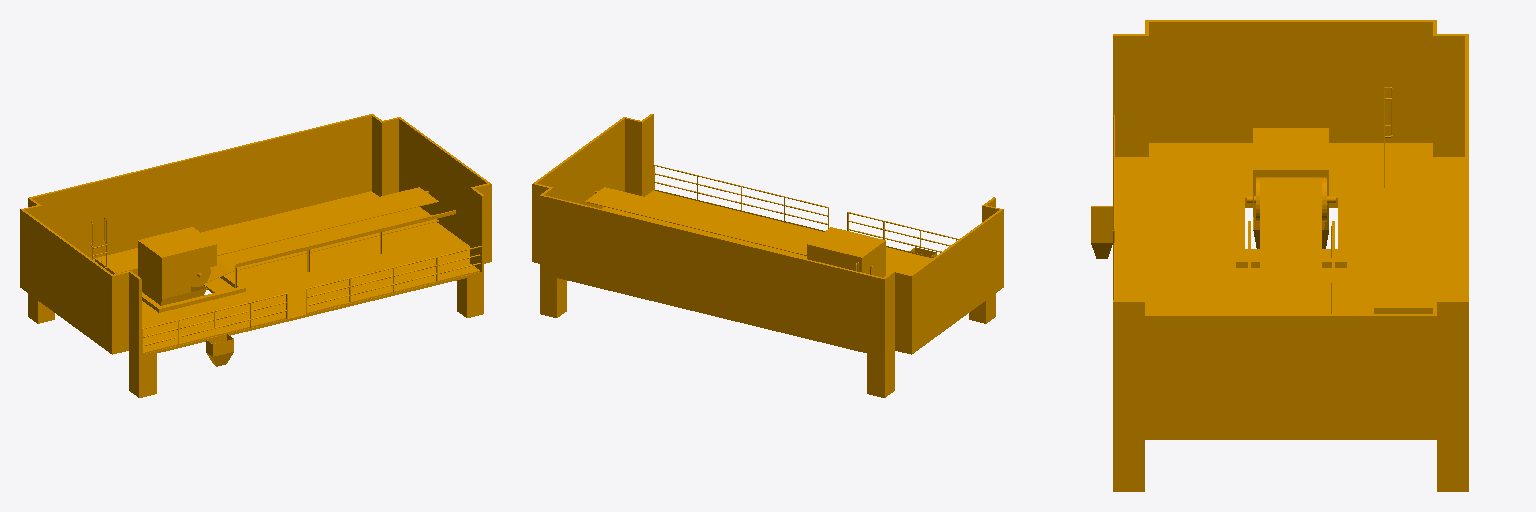
URDF robot description (UGV_Unimelb):
<?xml version="1.0" encoding="utf-8"?>
<robot
  name="UGV_Unimelb">
  <link
    name="robot_body">
    <inertial>
      <origin
        xyz="0 0 0.2"
        rpy="0 0 0" />
      <mass
        value="25" />
      <inertia
        ixx="0.854166667"
        ixy="0"
        ixz="0"
        iyy="1.354166667"
        iyz="0"
        izz="1.54166667" />
    </inertial>
    <visual>
      <geometry>
        <mesh
          filename="package://ugv_description/models/base_link.STL" />
      </geometry>
    </visual>
    <collision>
      <origin
        xyz="0 0 0.2"
        rpy="0 0 0" />
      <geometry>
        <box size="0.7 0.5 0.4"/>
      </geometry>
    </collision>
  </link>
  
  <!-- front left -->

  <link
    name="left_front_wheel">
    <inertial>
      <origin
        xyz="0 0.06 0"
        rpy="0 0 0" />
      <mass
        value="5" />
      <inertia
        ixx="0.007166667"
        ixy="0"
        ixz="0"
        iyy="0.009"
        iyz="0"
        izz="0.007166667" />
    </inertial>
    <visual>
      <origin
        xyz="0 0.01 0"
        rpy="0 0 0" />
      <geometry>
        <mesh
          filename="package://ugv_description/models/Left_Front_Wheel.STL" />
      </geometry>
    </visual>
    <collision>
      <origin
        xyz="0 0.06 0"
        rpy="-1.570796327 0 0" />
      <geometry>
        <cylinder length="0.08" radius="0.065"/>
      </geometry>
    </collision>
  </link>
  
  <joint
    name="left_front_wheel_joint"
    type="continuous">
    <origin
      xyz="0.22316 0.245 0.047662"
      rpy="0 0 0" />
    <parent
      link="robot_body" />
    <child
      link="left_front_wheel" />
    <axis
      xyz="0 1 0" />
  </joint>

  <!-- front right -->

  <link
    name="right_front_wheel">
    <inertial>
      <origin
        xyz="0 -0.06 0"
        rpy="0 0 0" />
      <mass
        value="5" />
      <inertia
        ixx="0.007166667"
        ixy="0"
        ixz="0"
        iyy="0.009"
        iyz="0"
        izz="0.007166667" />
    </inertial>
    <visual>
      <origin
        xyz="0 -0.01 0"
        rpy="0 0 0" />
      <geometry>
        <mesh
          filename="package://ugv_description/models/Right_Front_Wheel.STL" />
      </geometry>
    </visual>
    <collision>
      <origin
        xyz="0 -0.06 0"
        rpy="1.570796327 0 0" />
      <geometry>
        <cylinder length="0.08" radius="0.065"/>
      </geometry>
    </collision>
  </link>
  
  <joint
    name="right_front_wheel_joint"
    type="continuous">
    <origin
      xyz="0.22316 -0.245 0.047662"
      rpy="0 0 0" />
    <parent
      link="robot_body" />
    <child
      link="right_front_wheel" />
    <axis
      xyz="0 1 0" />
  </joint>

  <!-- back right -->

  <link
    name="right_back_wheel">
    <inertial>
      <origin
        xyz="0 -0.06 0"
        rpy="0 0 0" />
      <mass
        value="5" />
      <inertia
        ixx="0.007166667"
        ixy="0"
        ixz="0"
        iyy="0.009"
        iyz="0"
        izz="0.007166667" />
    </inertial>
    <visual>
      <origin
        xyz="0 -0.01 0"
        rpy="0 0 0" />
      <geometry>
        <mesh
          filename="package://ugv_description/models/Right_Front_Wheel.STL" />
      </geometry>
    </visual>
    <collision>
      <origin
        xyz="0 -0.06 0"
        rpy="1.570796327 0 0" />
      <geometry>
        <cylinder length="0.08" radius="0.065"/>
      </geometry>
    </collision>
  </link>
  
  <joint
    name="right_back_wheel_joint"
    type="continuous">
    <origin
      xyz="-0.256 -0.245 0.047662"
      rpy="0 0 0" />
    <parent
      link="robot_body" />
    <child
      link="right_back_wheel" />
    <axis
      xyz="0 1 0" />
  </joint>

  <!-- back left -->

  <link
    name="left_back_wheel">
    <inertial>
      <origin
        xyz="0 0.06 0"
        rpy="0 0 0" />
      <mass
        value="5" />
      <inertia
        ixx="0.007166667"
        ixy="0"
        ixz="0"
        iyy="0.009"
        iyz="0"
        izz="0.007166667" />
    </inertial>
    <visual>
      <origin
        xyz="0 0.01 0"
        rpy="0 0 0" />
      <geometry>
        <mesh
          filename="package://ugv_description/models/Left_Front_Wheel.STL" />
      </geometry>
    </visual>
    <collision>
      <origin
        xyz="0 0.06 0"
        rpy="1.570796327 0 0" />
      <geometry>
        <cylinder length="0.08" radius="0.065"/>
      </geometry>
    </collision>
  </link>
  
  <joint
    name="left_back_wheel_joint"
    type="continuous">
    <origin
      xyz="-0.256 0.245 0.047662"
      rpy="0 0 0" />
    <parent
      link="robot_body" />
    <child
      link="left_back_wheel" />
    <axis
      xyz="0 1 0" />
  </joint>
  
  <!-- left -->

  <link
    name="left_wheel">
    <inertial>
      <origin
        xyz="0 0.06 0"
        rpy="0 0 0" />
      <mass
        value="5" />
      <inertia
        ixx="0.007166667"
        ixy="0"
        ixz="0"
        iyy="0.009"
        iyz="0"
        izz="0.007166667" />
    </inertial>
    <visual>
      <origin
        xyz="0 0.01 0"
        rpy="0 0 0" />
      <geometry>
        <mesh
          filename="package://ugv_description/models/Left_Wheel.STL" />
        <surface>
          <friction>
            <ode>
              <mu>1000.0</mu>
              <mu2>1000.0</mu2>
            </ode>
          </friction>
        </surface>
      </geometry>
    </visual>
    <collision>
      <origin
        xyz="0 0.06 0"
        rpy="1.570796327 0 0" />
      <geometry>
        <cylinder length="0.08" radius="0.065"/>
      </geometry>
    </collision>
  </link>
  
  <joint
    name="left_wheel_joint"
    type="continuous">
    <origin
      xyz="-0.016169 0.245 0.047662"
      rpy="0 0 0" />
    <parent
      link="robot_body" />
    <child
      link="left_wheel" />
    <axis
      xyz="0 1 0" />
  </joint>

  <!-- right -->

  <link
    name="right_wheel">
    <inertial>
      <origin
        xyz="0 -0.06 0"
        rpy="0 0 0" />
      <mass
        value="5" />
      <inertia
        ixx="0.007166667"
        ixy="0"
        ixz="0"
        iyy="0.009"
        iyz="0"
        izz="0.007166667" />
    </inertial>
    <visual>
      <origin
        xyz="0 -0.01 0"
        rpy="0 0 0" />
      <geometry>
        <mesh
          filename="package://ugv_description/models/Right_Wheel.STL" />
        <surface>
          <friction>
            <ode>
              <mu>1000.0</mu>
              <mu2>1000.0</mu2>
            </ode>
          </friction>
        </surface>
      </geometry>
    </visual>
    <collision>
      <origin
        xyz="0 -0.06 0"
        rpy="-1.570796327 0 0" />
      <geometry>
        <cylinder length="0.08" radius="0.065"/>
      </geometry>
    </collision>
  </link>
  
  <joint
    name="right_wheel_joint"
    type="continuous">
    <origin
      xyz="-0.016169 -0.245 0.047662"
      rpy="0 0 0" />
    <parent
      link="robot_body" />
    <child
      link="right_wheel" />
    <axis
      xyz="0 1 0" />
  </joint>

  <!-- Bucket -->

  <link
    name="Bucket">
    <inertial>
      <origin
        xyz="0.1 -0.211701589881784 0.1"
        rpy="0 0 0" />
      <mass
        value="15" />
      <inertia
        ixx="0.6"
        ixy="0"
        ixz="0"
        iyy="0.2"
        iyz="0"
        izz="0.6" />
    </inertial>
    <visual>
      <origin
        xyz="0 0 0"
        rpy="0 0 0" />
      <geometry>
        <mesh
          filename="package://ugv_description/models/Bucket.STL" />
      </geometry>
      <material
        name="">
        <color
          rgba="0.792156862745098 0.819607843137255 0.933333333333333 1" />
      </material>
    </visual>
    <collision>
      <origin
        xyz="0 0 0"
        rpy="0 0 0" />
      <geometry>
        <mesh
          filename="package://ugv_description/models/Bucket.STL" />
      </geometry>
    </collision>
  </link>

  <joint
    name="Joint_Bucket_left"
    type="revolute">
    <origin
      xyz="0.35883 0.2117 0.047662"
      rpy="0 0 0" />
    <parent
      link="robot_body" />
    <child
      link="Bucket" />
    <axis
      xyz="0 1 0" />
    <limit
      lower="0.05"
      upper="0.1"
      effort="0"
      velocity="0" />
  </joint>

  <!-- Camera -->

  <link
    name="Camera_link">
    <inertial>
      <origin
        xyz="-0.0893390605039384 0.000350551617509749 -0.247972031002889"
        rpy="0 0 0" />
      <mass
        value="1" />
      <inertia
        ixx="0.01"
        ixy="0"
        ixz="0"
        iyy="0.01"
        iyz="0"
        izz="0.01" />
    </inertial>
    <visual>
      <origin
        xyz="0 0 0"
        rpy="0 0 0" />
      <geometry>
        <mesh
          filename="package://ugv_description/models/Camera.STL" />
      </geometry>
      <material
        name="">
        <color
          rgba="0.792156862745098 0.819607843137255 0.933333333333333 1" />
      </material>
    </visual>
    <collision>
      <origin
        xyz="0 0 0"
        rpy="0 0 0" />
      <geometry>
        <mesh
          filename="package://ugv_description/models/Camera.STL" />
      </geometry>
    </collision>
  </link>

  <gazebo reference="Camera_link">
    <sensor type="camera" name="front_camera">
      <update_rate>30.0</update_rate>
      <camera name="front_eye">
        <horizontal_fov>1.3962634</horizontal_fov>
        <image>
          <width>800</width>
          <height>800</height>
          <format>R8G8B8</format>
        </image>
        <clip>
          <near>0.02</near>
          <far>300</far>
        </clip>
        <noise>
          <type>gaussian</type>
          <mean>0.0</mean>
          <stddev>0.007</stddev>
        </noise>
      </camera>
      <plugin name="camera_controller" filename="libgazebo_ros_camera.so">
        <alwaysOn>true</alwaysOn>
        <updateRate>0.0</updateRate>
        <cameraName>rrbot/camera1</cameraName>
        <imageTopicName>image_raw</imageTopicName>
        <cameraInfoTopicName>camera_info</cameraInfoTopicName>
        <frameName>camera_link</frameName>
        <hackBaseline>0.07</hackBaseline>
        <distortionK1>0.0</distortionK1>
        <distortionK2>0.0</distortionK2>
        <distortionK3>0.0</distortionK3>
        <distortionT1>0.0</distortionT1>
        <distortionT2>0.0</distortionT2>
      </plugin>
    </sensor>
  </gazebo>

  <joint
    name="Joint_Camera"
    type="fixed">
    <origin
      xyz="0.29633 -0.00035214 0.337"
      rpy="0 0 0" />
    <parent
      link="robot_body" />
    <child
      link="Camera_link" />
    <axis
      xyz="0 0 0" />
  </joint>

  <!-- Lidar -->

  <link
    name="Lidar_link">
    <inertial>
      <origin
        xyz="-2.77555756156289E-17 4.74552056052413E-18 0.0254999999999999"
        rpy="0 0 0" />
      <mass
        value="4" />
      <inertia
        ixx="0.00113189486295744"
        ixy="1.95759134039956E-51"
        ixz="-2.7081123881694E-36"
        iyy="0.00113189486295744"
        iyz="2.56494604465062E-19"
        izz="0.00192345581012362" />
    </inertial>
    <visual>
      <origin
        xyz="0 0 0"
        rpy="0 0 0" />
      <geometry>
        <mesh
          filename="package://ugv_description/models/Lidar.STL" />
      </geometry>
      <material
        name="">
        <color
          rgba="1 1 1 1" />
      </material>
    </visual>
    <collision>
      <origin
        xyz="0 0 0"
        rpy="0 0 0" />
      <geometry>
        <mesh
          filename="package://ugv_description/models/Lidar.STL" />
      </geometry>
    </collision>
  </link>

  <gazebo reference="Lidar_link">
    <sensor type="gpu_ray" name="head_hokuyo_sensor">
      <pose>0 0 0.1 0 0 0</pose>
      <visualize>true</visualize>
      <update_rate>30</update_rate>
      <ray>
        <scan>
          <horizontal>
            <samples>720</samples>
            <resolution>1</resolution>
            <min_angle>-0.5235987756</min_angle>
            <max_angle>0.5235987756</max_angle>
          </horizontal>
        </scan>
        <range>
          <min>0.10</min>
          <max>30.0</max>
          <resolution>0.01</resolution>
        </range>
        <noise>
          <type>gaussian</type>
          <mean>0.0</mean>
          <stddev>0.01</stddev>
        </noise>
      </ray>
      <plugin name="gazebo_ros_head_hokuyo_controller" filename="libgazebo_ros_gpu_laser.so">
        <topicName>/rrbot/laser/scan</topicName>
        <frameName>Lidar_link</frameName>
      </plugin>
      <plugin name="joint_rotor_plugin" filename="joint_rotor_plugin.cc">
        <velocity>25</velocity>>
      </plugin>>
    </sensor>
  </gazebo>

  <joint
    name="Joint_Lidar"
    type="continuous">
    <origin
      xyz="0.21533 0 0.403"
      rpy="0 0 0" />
    <parent
      link="robot_body" />
    <child
      link="Lidar_link" />
    <axis
      xyz="0 0 1" />
  </joint>

  <!-- drive -->

  <gazebo>
    <plugin name = "differential_drive_controller" filename = "libgazebo_ros_diff_drive.so">
      <updateRate>30</updateRate>
      <leftJoint>left_wheel_joint</leftJoint>
      <rightJoint>right_wheel_joint</rightJoint>
      <wheelSeparation>0.57</wheelSeparation>
      <wheelDiameter>0.12</wheelDiameter>
      <wheelAcceleration>0.3</wheelAcceleration>
      <wheelTorque>50</wheelTorque>
      <commandTopic>cmd_vel</commandTopic>
      <odometryTopic>odom</odometryTopic>
      <odometryFrame>odom</odometryFrame>
      <robotBaseFrame>robot_body</robotBaseFrame>
      <odometrySource>1</odometrySource>
    </plugin>>
  </gazebo>>

  <!-- IMU sensor -->

  <gazebo reference="robot_body">
    <gravity>true</gravity>
    <sensor name="imu_sensor" type="imu">
      <always_on>true</always_on>
      <update_rate>100</update_rate>
      <visualize>true</visualize>
      <topic>__default_topic__</topic>
      <plugin filename="libgazebo_ros_imu_sensor.so" name="imu_plugin">
        <topicName>imu</topicName>
        <bodyName>robot_body</bodyName>
        <updateRateHZ>30.0</updateRateHZ>
        <gaussianNoise>0.0</gaussianNoise>
        <xyzOffset>0 0 0</xyzOffset>
        <rpyOffset>0 0 0</rpyOffset>
        <frameName>robot_body</frameName>
        <initialOrientationAsReference>false</initialOrientationAsReference>
      </plugin>
      <pose>0 0 0 0 0 0</pose>
    </sensor>
  </gazebo>

</robot>

--- Render facts (derived) ---
Views: 3 orthographic renders of the robot side by side, from view 1: azimuth 30°, elevation 25°; view 2: azimuth 150°, elevation 25°; view 3: azimuth 270°, elevation 25°.
Robot: UGV_Unimelb — 10 links, 9 joints (1 revolute, 7 continuous, 1 fixed); root link robot_body; default pose: all joints at 0 but 1 set to mid-range because 0 is outside their limits (Joint_Bucket_left = 0.075).
Links seen in each view (by area): view 1: robot_body; view 2: robot_body; view 3: robot_body.
Link boxes in pixels (x1,y1,x2,y2): robot_body: (20, 114, 491, 397); robot_body: (532, 114, 1003, 397); robot_body: (1091, 20, 1468, 491).
Size in the robot's own frame: 15.7 by 8.5 by 4.7 metres.
1 mesh visuals loaded from 8 distinct referenced files (1 binary STL); not drawn: 9 (reference not matched to a file when rendering).